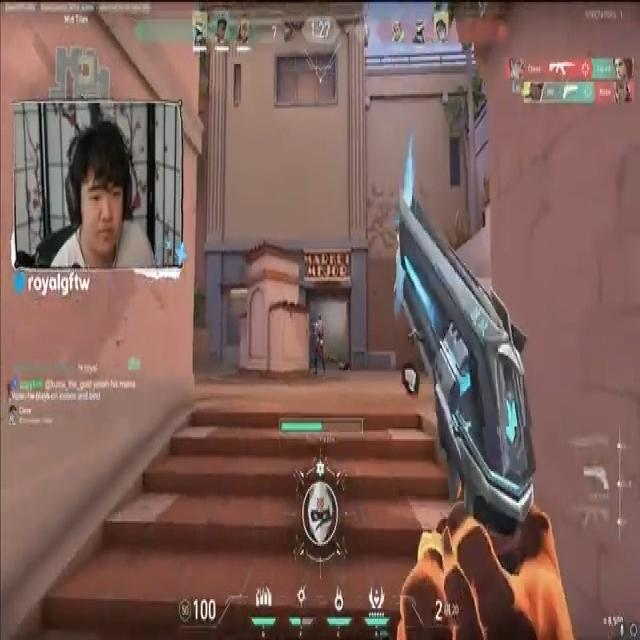enemy: (310, 311, 330, 378)
